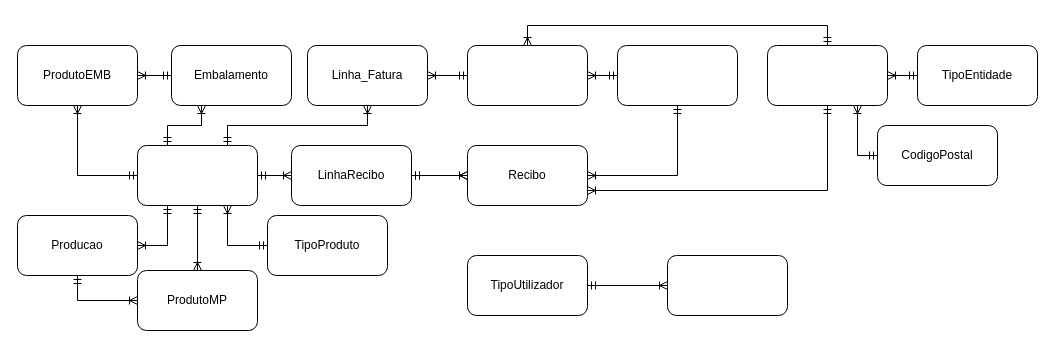
Image size: 1055x348. Some labels were removed from this diagram. Here are the shapes that lost their labels. From the top down, the box of each, then its label:
(466, 44, 588, 106): Fatura
(616, 44, 738, 106): TipoPagamento
(766, 44, 888, 106): Entidade
(136, 144, 258, 206): Produto
(666, 254, 788, 316): Utilizador
